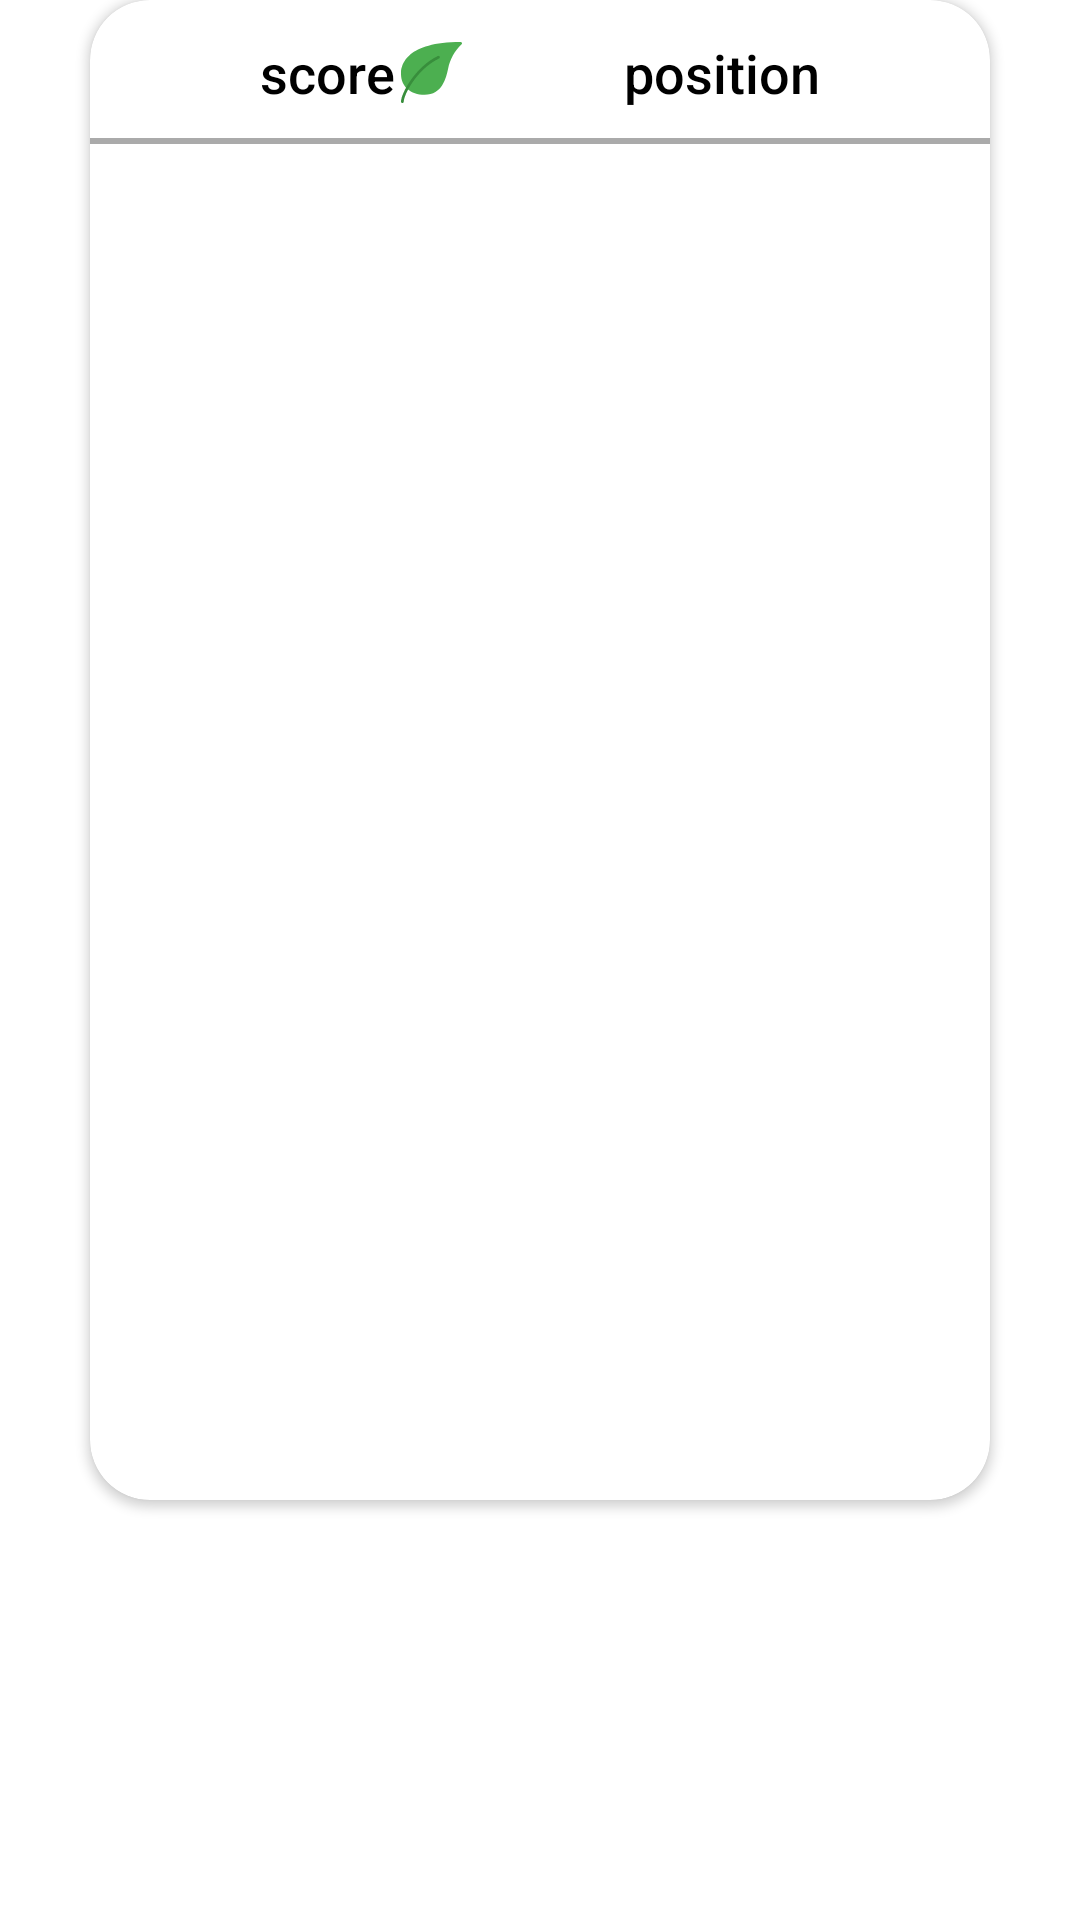

Locate icon controls on the screen. Image size 1080 x 1920, boxes as {"left": x1, "top": y1, "right": x2, "bottom": y2}.
nature: {"left": 401, "top": 42, "right": 462, "bottom": 103}
